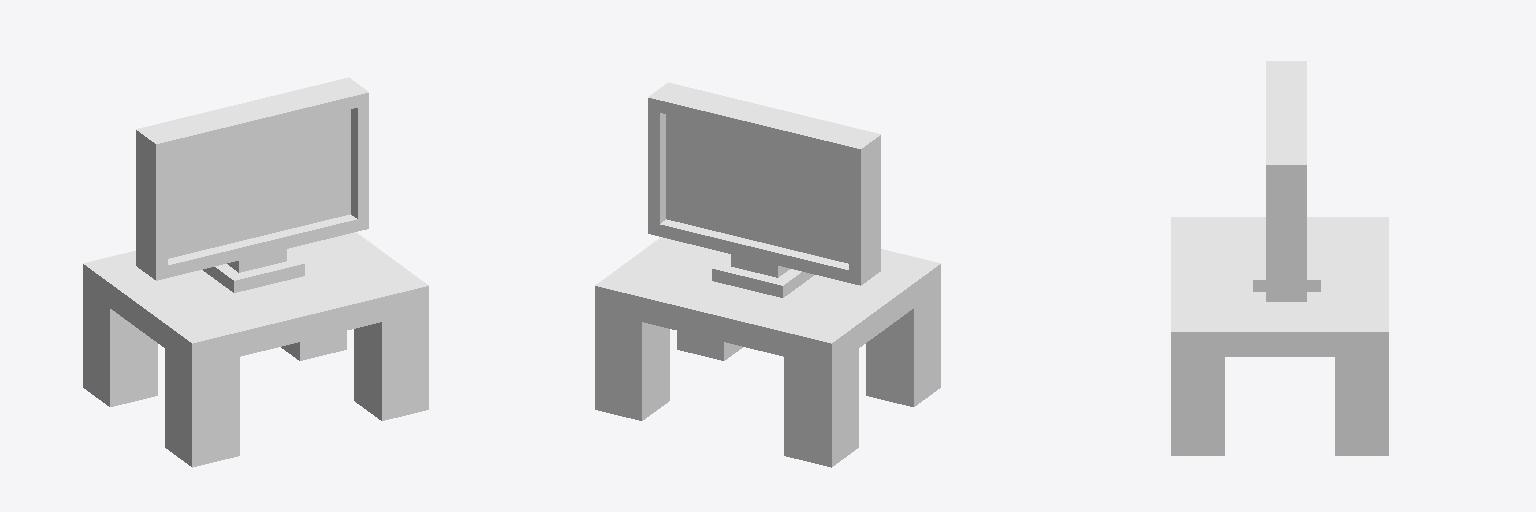
Rendered from Project-1.obj.
3 views of the same model, side by side, from view 1: azimuth 30°, elevation 25°; view 2: azimuth 150°, elevation 25°; view 3: azimuth 270°, elevation 25° (orthographic).
Parts seen in each view (by area): view 1: object 1; view 2: object 1; view 3: object 1.
Part boxes in pixels (x1,y1,x2,y2): object 1: (83, 77, 428, 467); object 1: (595, 82, 940, 467); object 1: (1171, 61, 1388, 455).
Bounding box in the file's own units: 2 × 2.3 × 1.6.